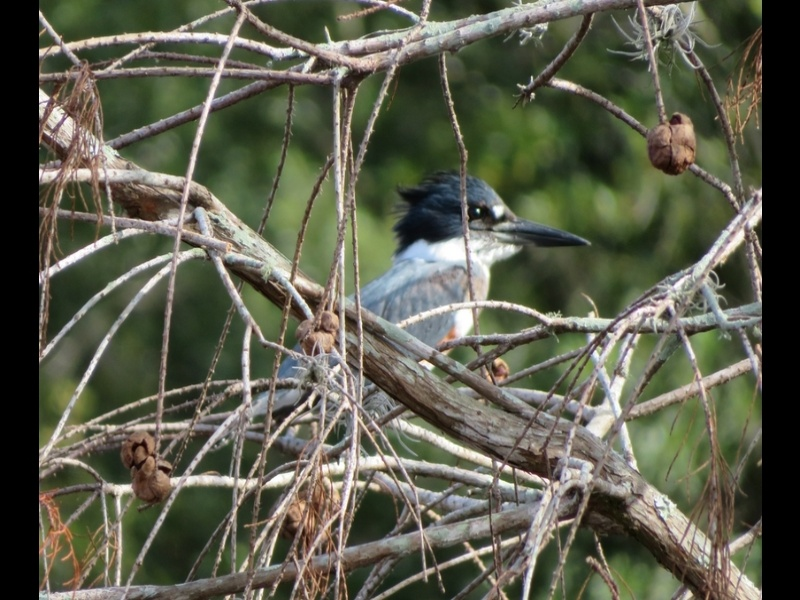kingfisher: (237, 163, 596, 462)
